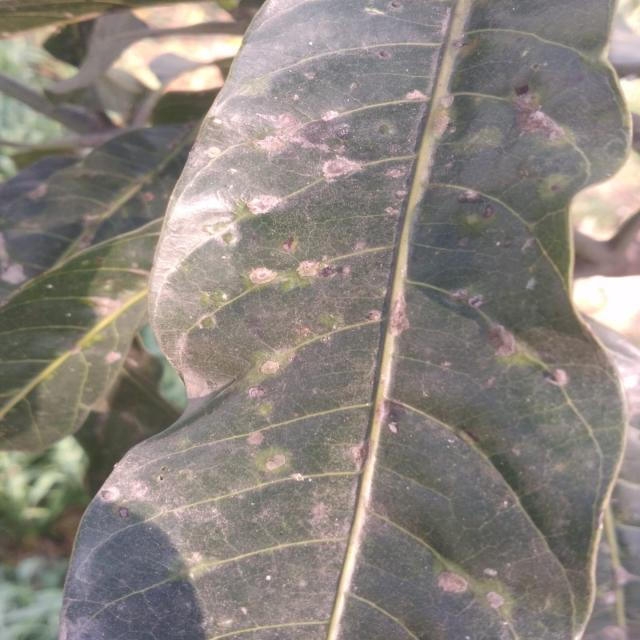Powdery Mildew: (534, 105, 588, 156), (434, 563, 474, 597), (315, 158, 368, 180), (242, 195, 282, 214), (245, 267, 279, 284), (100, 483, 123, 500), (295, 264, 323, 277)
